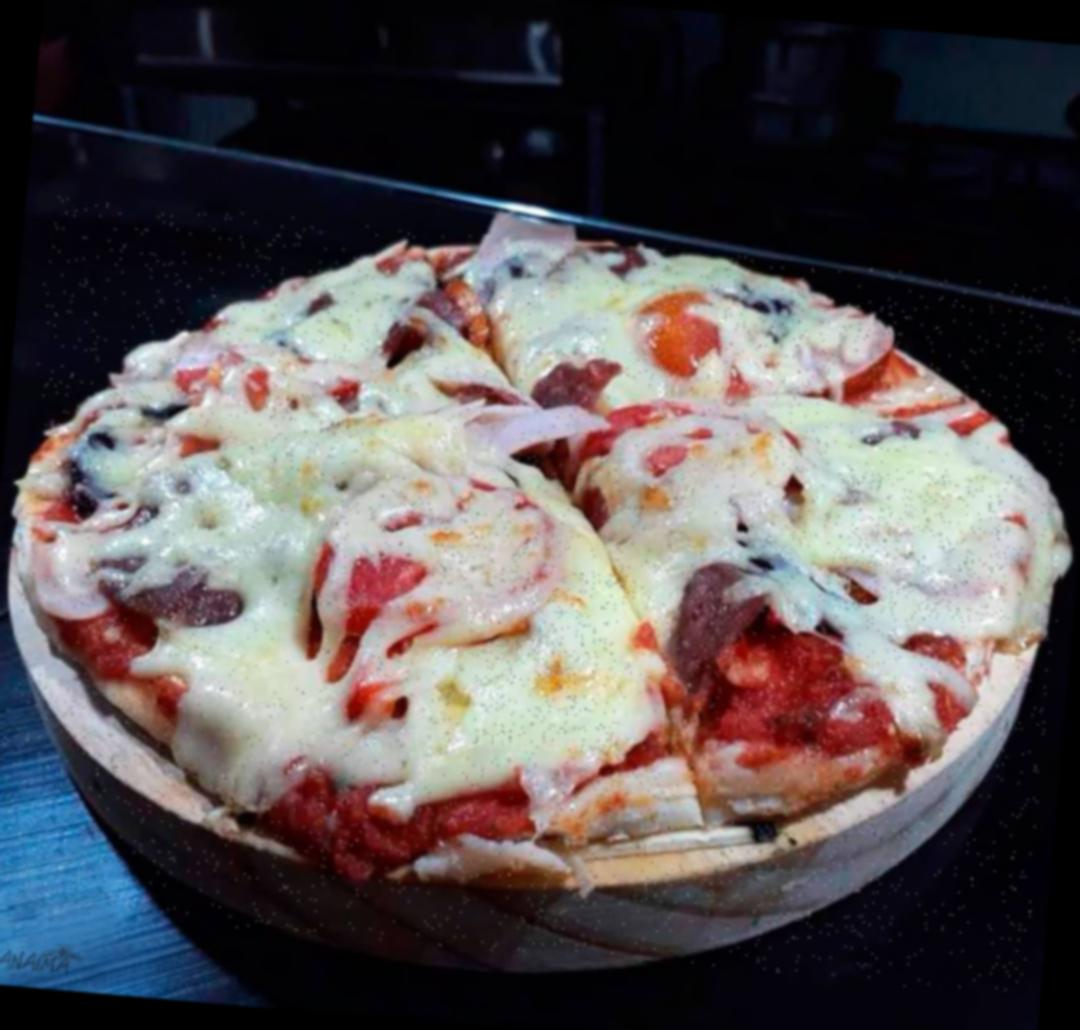Cheese: (203, 456, 323, 764), (828, 464, 1016, 627), (472, 564, 626, 760), (384, 424, 512, 544), (261, 322, 357, 450), (650, 488, 740, 569)
Pizza: (0, 196, 1080, 997)
Tomatoes: (327, 484, 556, 635), (639, 284, 897, 402), (598, 399, 796, 508), (440, 286, 499, 348)
